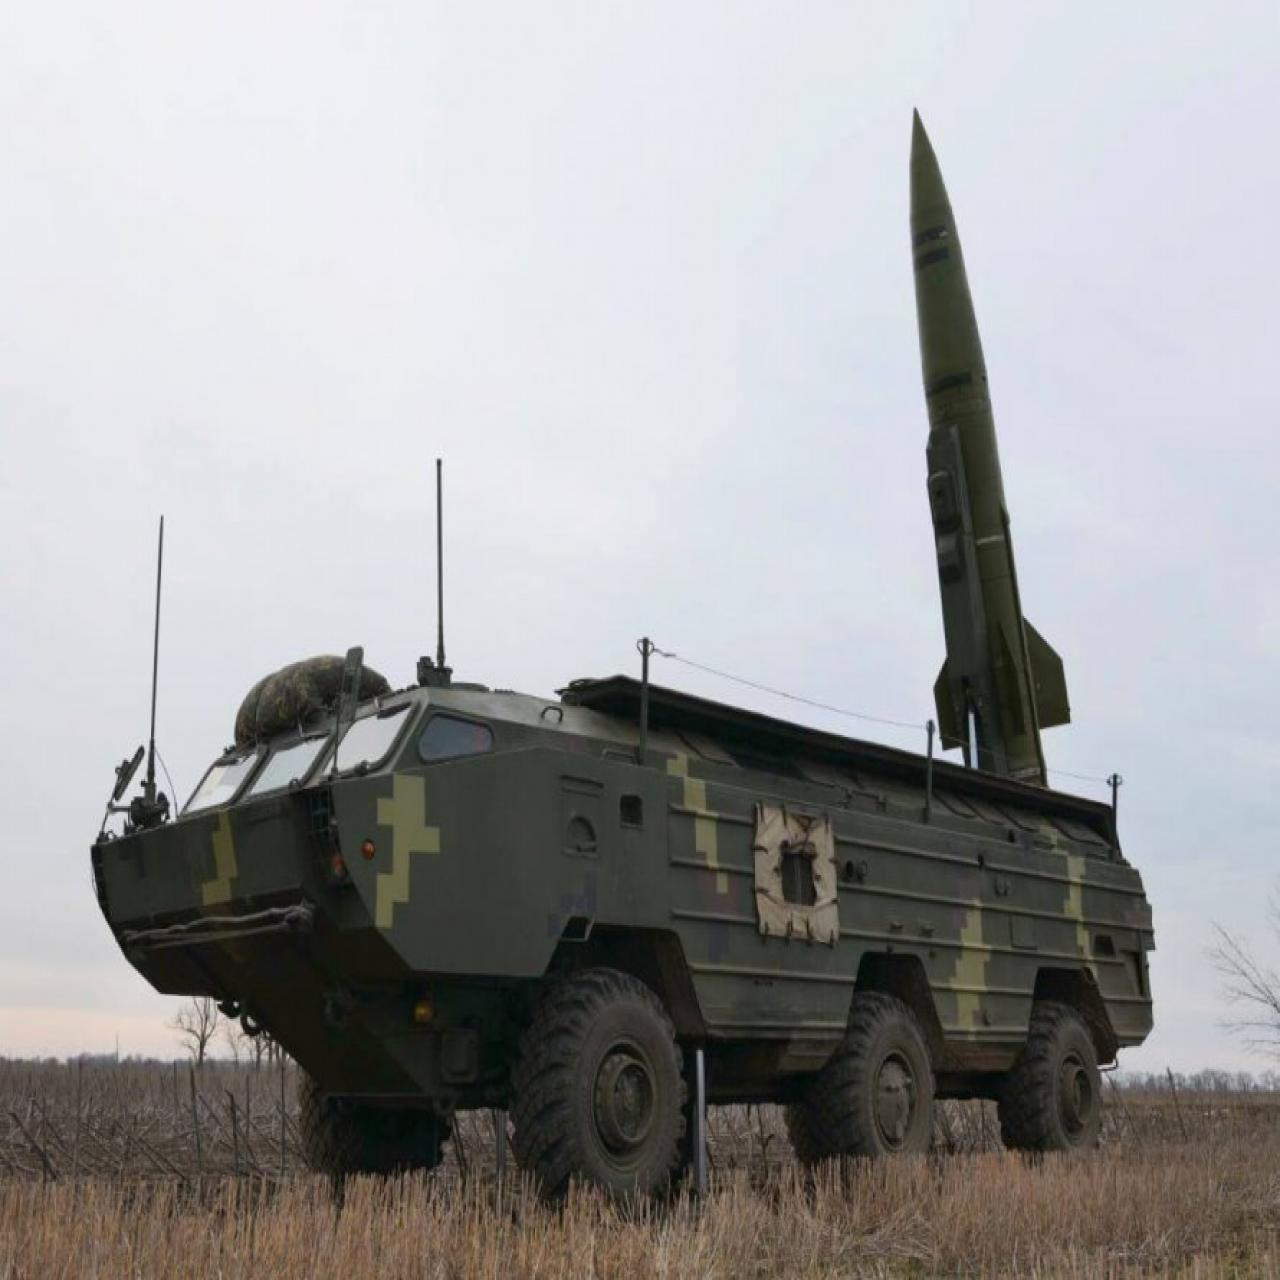MIL_Veh: (97, 100, 1160, 1197)
